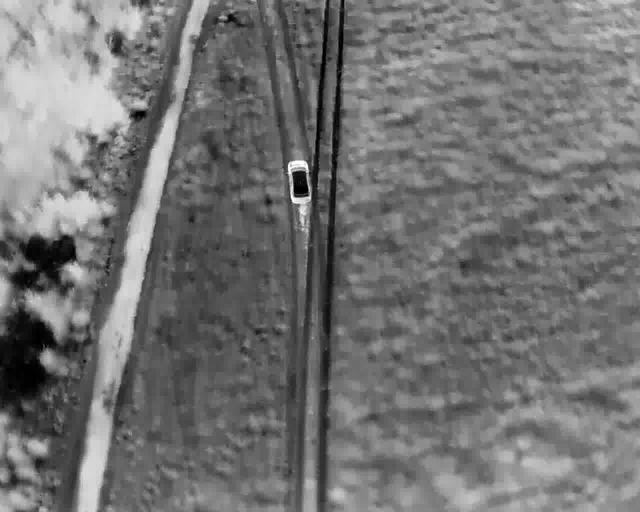car: (285, 159, 311, 204)
